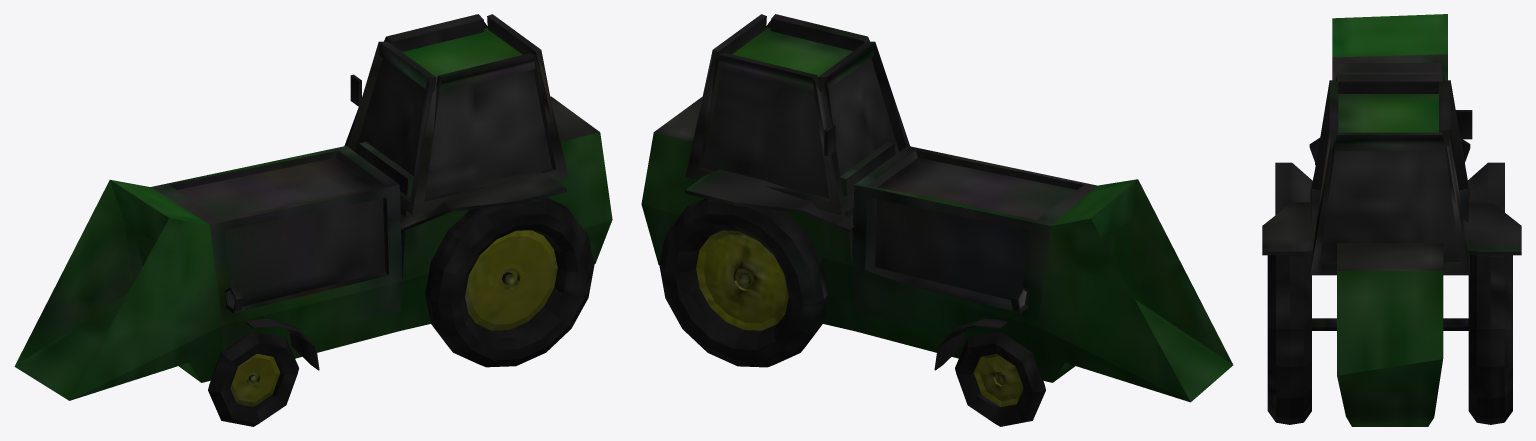
Rendered from tractor .fbx.
3 renders of one model, left to right at view 1: azimuth 30°, elevation 25°; view 2: azimuth 150°, elevation 25°; view 3: azimuth 270°, elevation 25°, orthographic. The views are drawn at different scales.
Parts seen in each view (by area): view 1: tractor; view 2: tractor; view 3: tractor.
Boxes of the visible parts, x1,y1,x2,y2 form: tractor: (14,14,612,426); tractor: (641,14,1233,426); tractor: (1262,14,1521,426).
Size of the model in its own units: 185 by 92.12 by 69.79.
